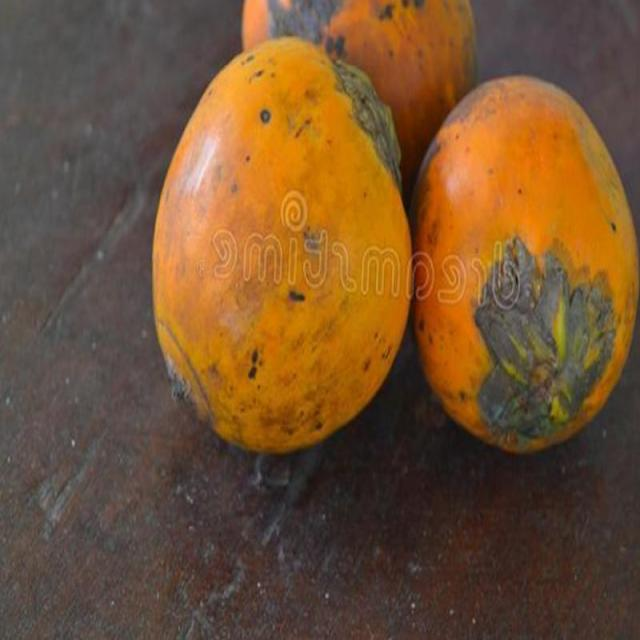good: (151, 38, 412, 457), (408, 76, 639, 457), (242, 0, 478, 209)
